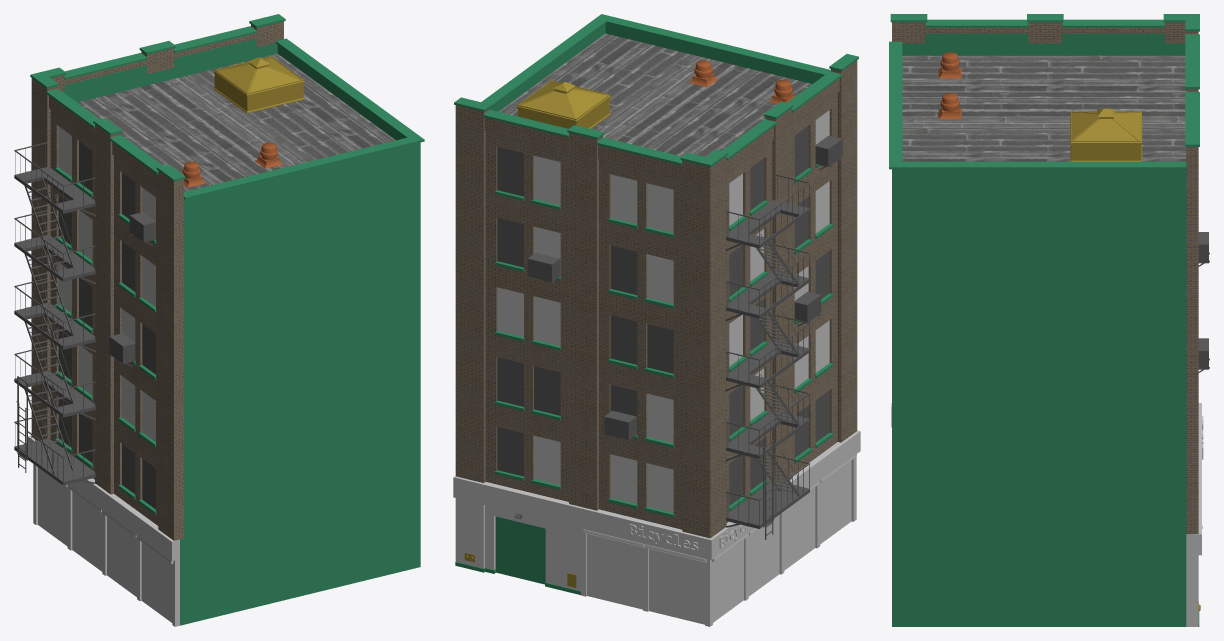
The model's file is mcp_building_30_LOD_0.FBX.
3 renders of one model, left to right at view 1: azimuth 30°, elevation 25°; view 2: azimuth 150°, elevation 25°; view 3: azimuth 270°, elevation 25°, orthographic. The views are drawn at different scales.
Visible parts, largest first — view 1: mcp_building_30_walls, mcp_building_30, mcp_building_30_props_02, mcp_building_30_concrete, mcp_building_30_props_01, mcp_building_30_props_03; view 2: mcp_building_30_walls, mcp_building_30, mcp_building_30_props_02, mcp_building_30_concrete, mcp_building_30_props_01, mcp_building_30_doors, mcp_building_30_props_03; view 3: mcp_building_30_walls, mcp_building_30_concrete, mcp_building_30_props_01, mcp_building_30_props_03, mcp_building_30, mcp_building_30_props_02.
Boxes of the visible parts, <box> form: mcp_building_30_walls: <box>31,21,420,625</box>; mcp_building_30: <box>28,126,179,626</box>; mcp_building_30_props_02: <box>14,142,155,485</box>; mcp_building_30_concrete: <box>30,14,424,514</box>; mcp_building_30_props_01: <box>214,56,304,113</box>; mcp_building_30_props_03: <box>182,142,283,187</box>; mcp_building_30_walls: <box>455,23,857,591</box>; mcp_building_30: <box>453,110,860,626</box>; mcp_building_30_props_02: <box>514,135,842,539</box>; mcp_building_30_concrete: <box>454,14,858,594</box>; mcp_building_30_props_01: <box>464,80,610,587</box>; mcp_building_30_doors: <box>495,516,545,584</box>; mcp_building_30_props_03: <box>688,60,794,104</box>; mcp_building_30_walls: <box>892,22,1198,626</box>; mcp_building_30_concrete: <box>889,14,1199,626</box>; mcp_building_30_props_01: <box>1070,108,1200,613</box>; mcp_building_30_props_03: <box>938,52,961,119</box>; mcp_building_30: <box>891,403,1203,555</box>; mcp_building_30_props_02: <box>1198,232,1209,528</box>.
Size of the model in its own units: 1552 by 2363 by 1415.
